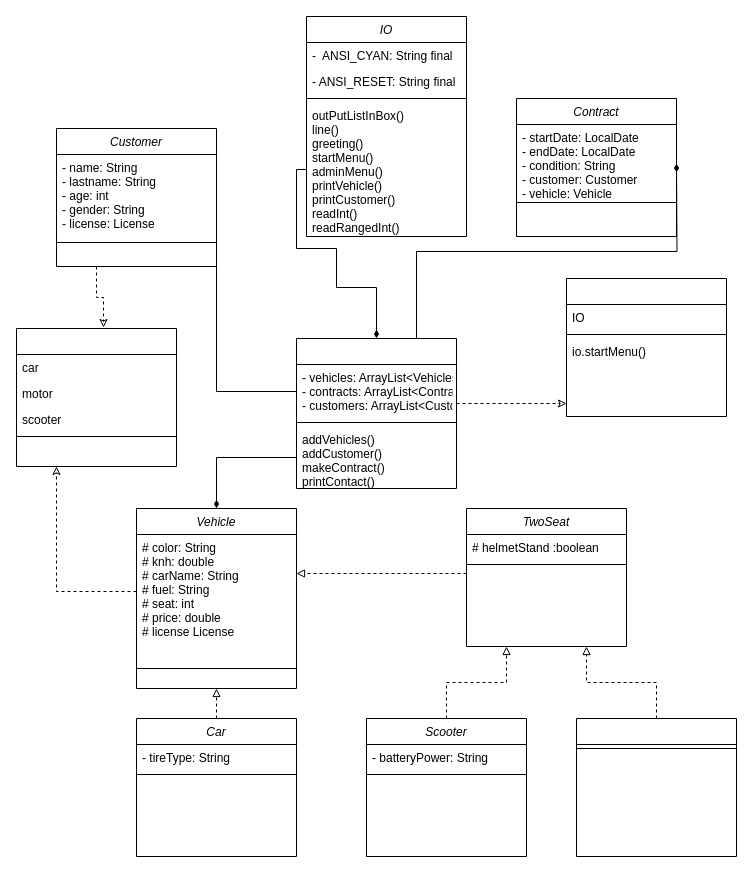
This 753x873 diagram has some shape labels left out. Each missing label, with the box of its shape:
enum: License: (16, 328, 176, 466)
Main: (566, 278, 726, 416)
Manager: (296, 338, 456, 488)
MotorCycle: (576, 718, 736, 856)
